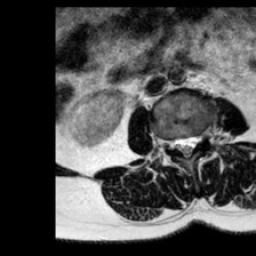CCS_normal: (182, 126, 190, 164)
LFS_normal: (198, 118, 207, 148)
LLS_normal: (190, 126, 198, 158)
RFS_normal: (165, 128, 174, 155)
RLS_normal: (174, 128, 182, 158)
